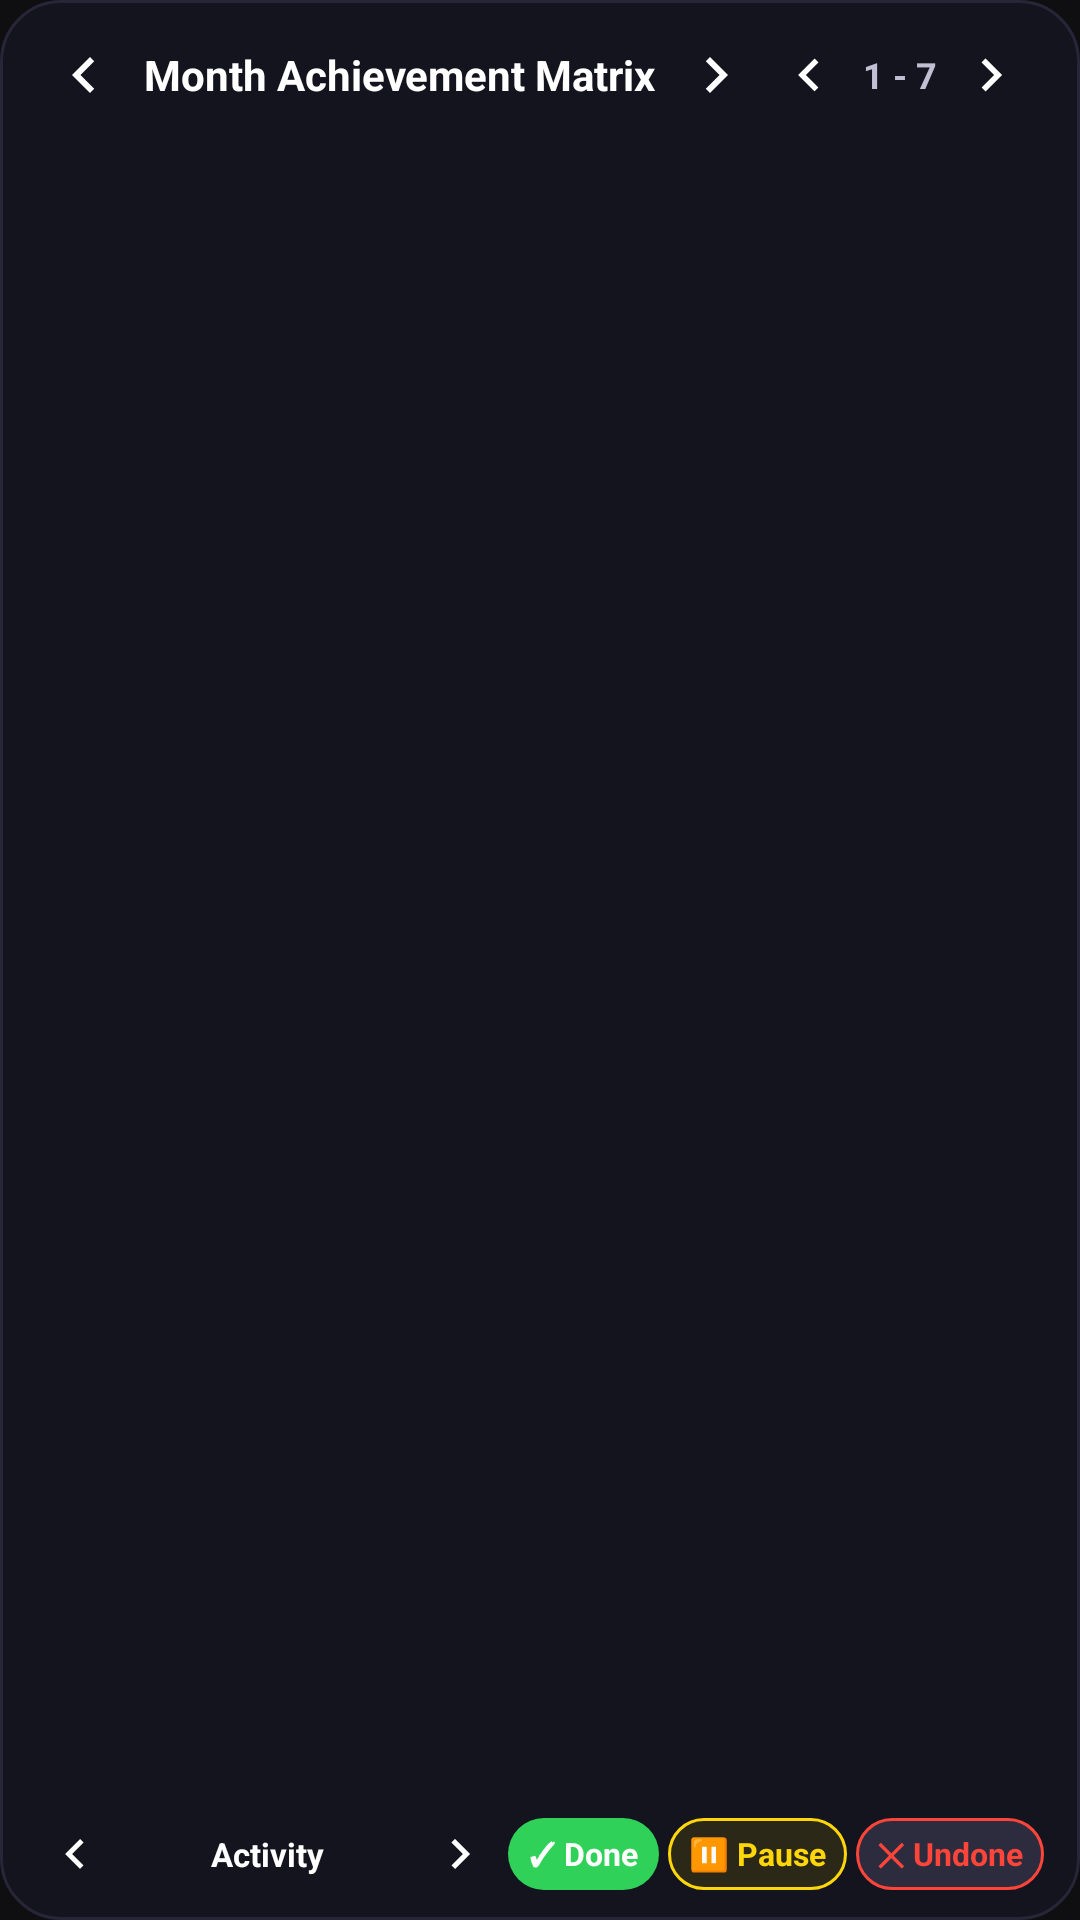

Icons on this 1080×1920 Android screen, each with its box as box(x1, y1, x2, y2):
Next Days: box(981, 58, 1002, 92), box(451, 1839, 470, 1869)
Next Month: box(706, 57, 728, 93)
Previous Days: box(798, 58, 819, 92), box(65, 1839, 84, 1869)
Previous Month: box(72, 57, 94, 93)
